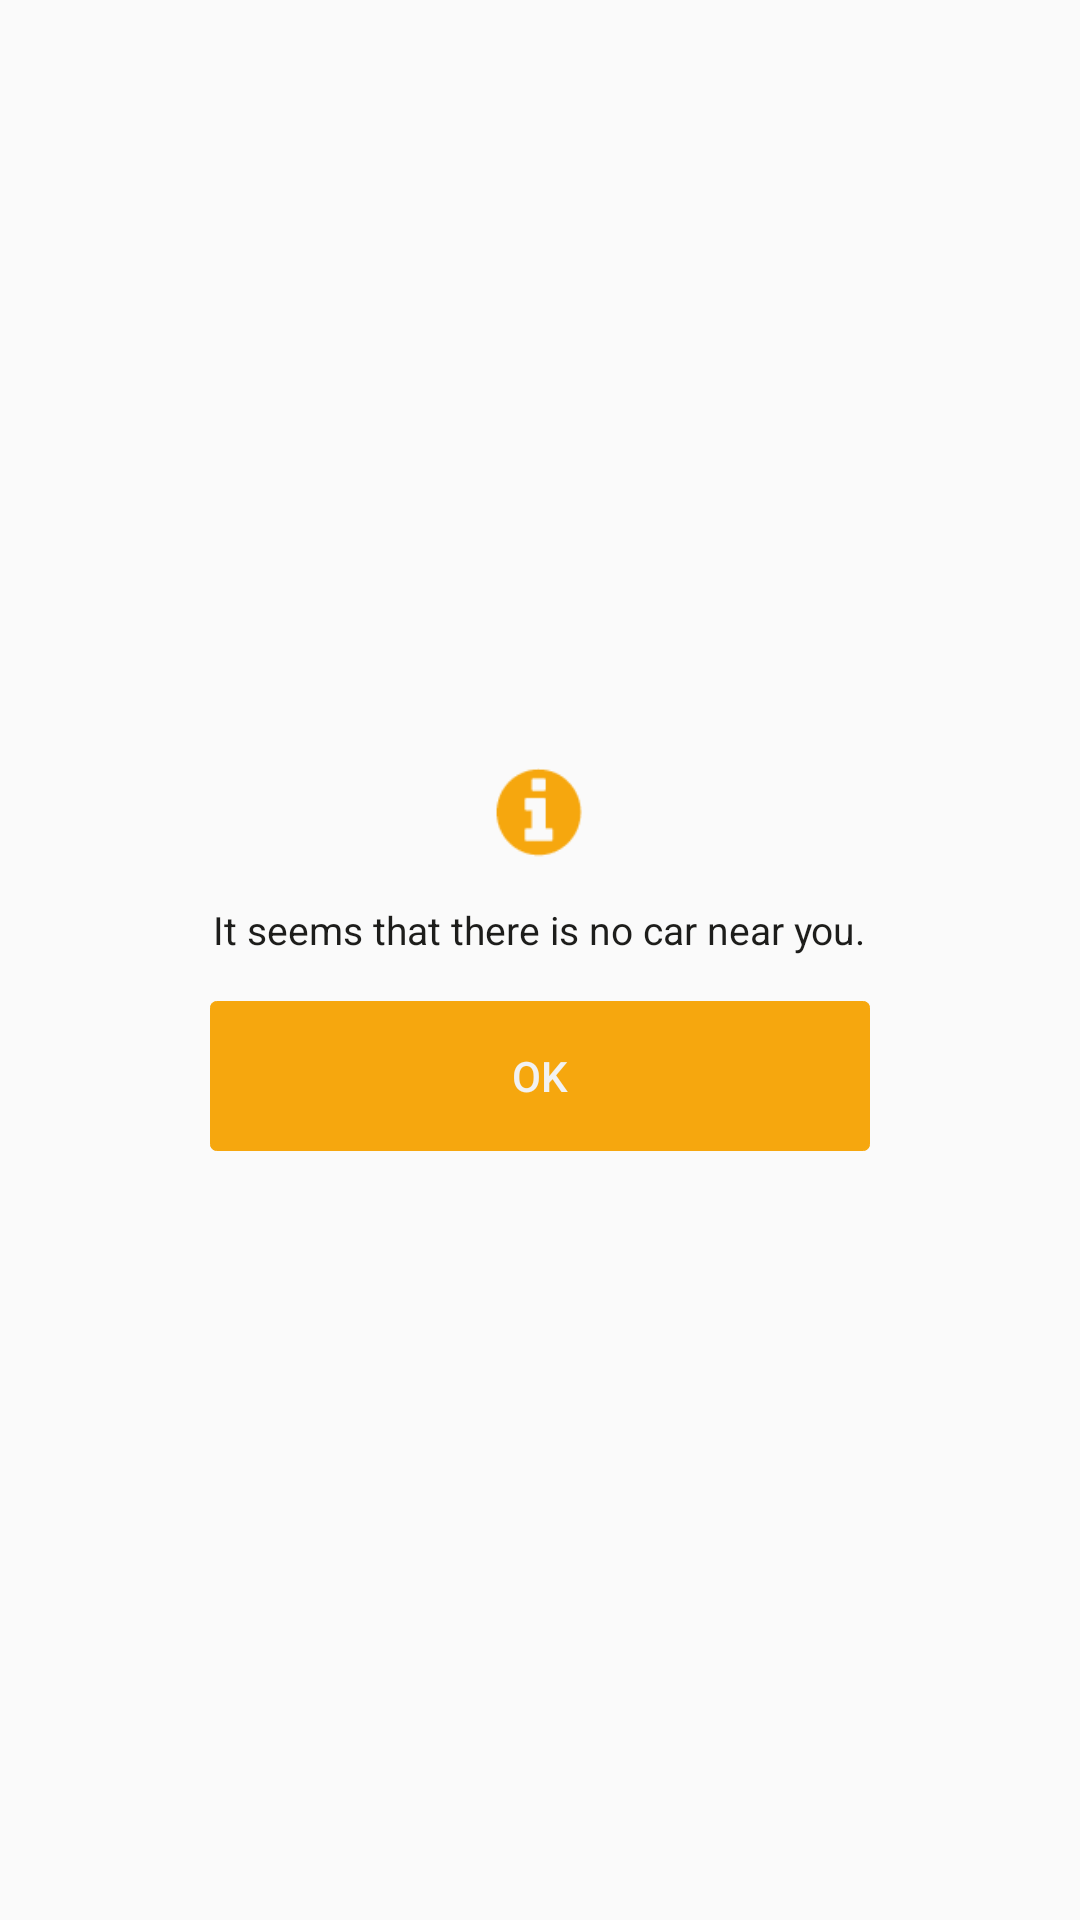

Where icons sit on this 1080 × 1920 app screen, as (x1, y1, x2, y2):
info: (496, 768, 582, 857)
